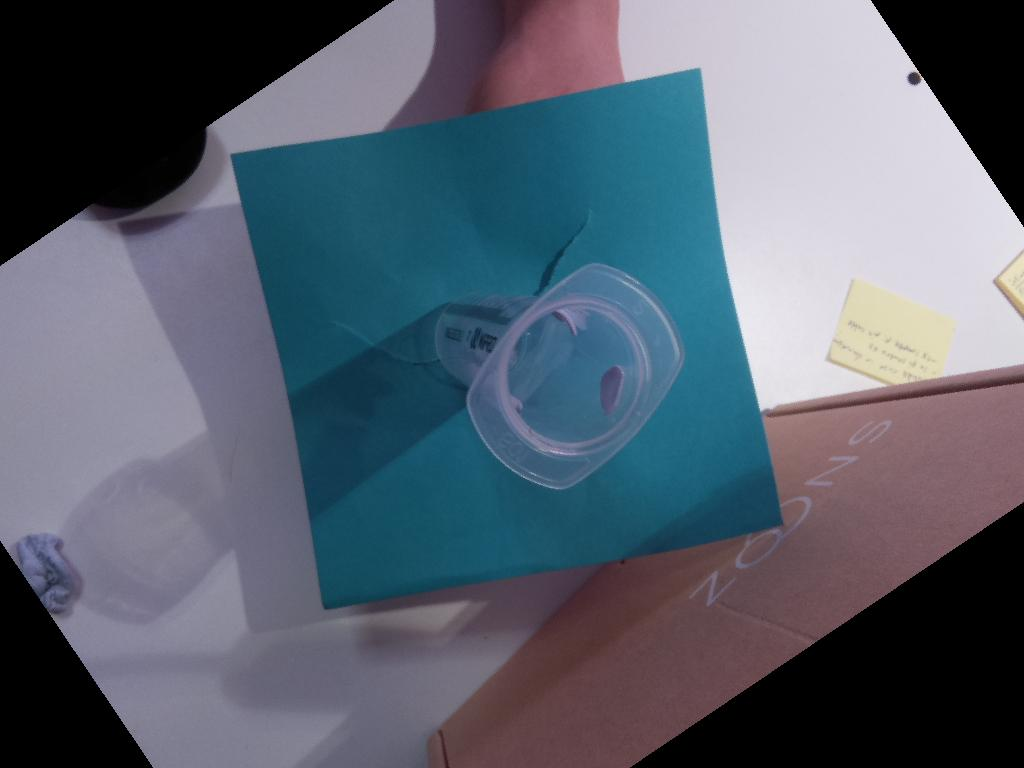dirty: (467, 264, 686, 490)
